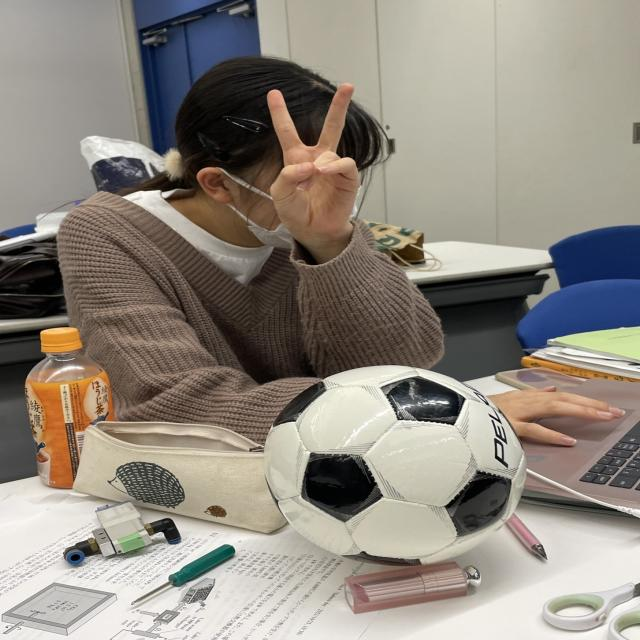ball: (266, 368, 526, 568)
